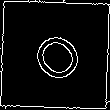O_SE: (21, 21, 89, 89)
